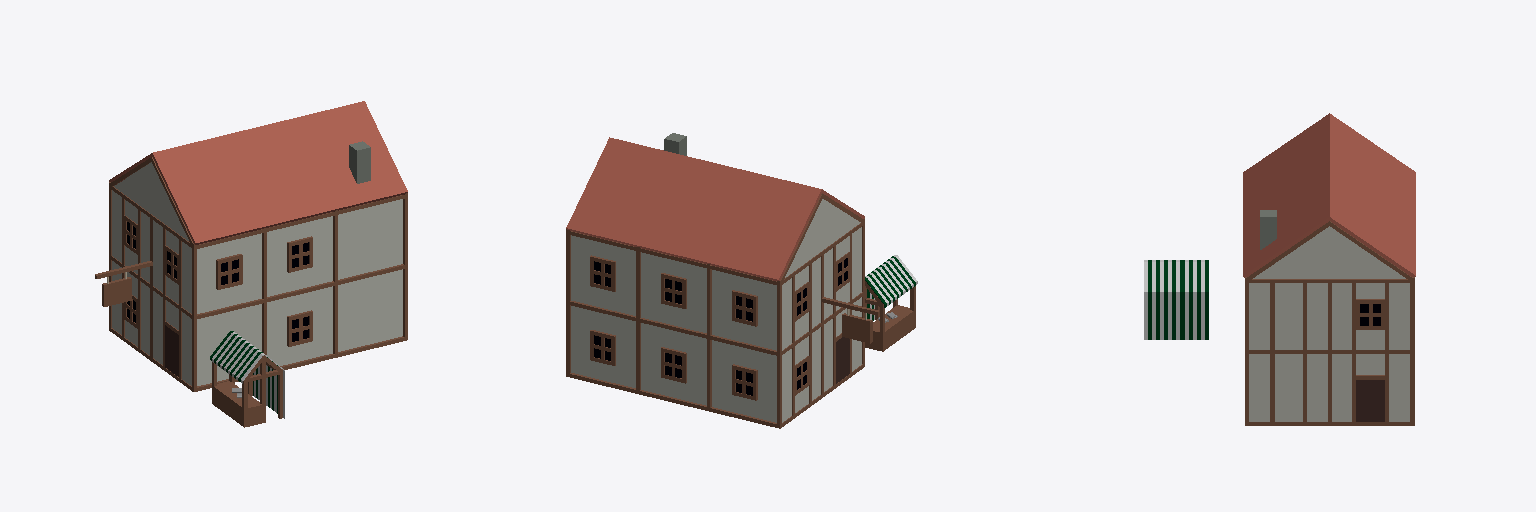
Rendered from timberframedclothier_green_white.obj.
The picture shows the model from 3 angles: view 1: azimuth 30°, elevation 25°; view 2: azimuth 150°, elevation 25°; view 3: azimuth 270°, elevation 25°; orthographic projection.
Parts seen in each view (by area): view 1: Cube.005, Cube.007_Cube.011, Cube.011_Cube.015, Cube.018_Cube.016, Cube.056_Cube.081, Cube.001_Cube.058, Cube.013_Cube.080, Cube.006_Cube.010, Cube.055_Cube.059, Cube.026_Cube.019, Cube.073_Cube.078, Cube.012_Cube.017 (+5 smaller); view 2: Cube.005, Cube.007_Cube.011, Cube.023_Cube.026, Cube.022_Cube.025, Cube.021_Cube.024, Cube.015_Cube.020, Cube.019_Cube.022, Cube.017_Cube.021, Cube.014_Cube.018, Cube.008, Cube.020_Cube.023, Cube.073_Cube.078 (+6 smaller); view 3: Cube.005, Cube.007_Cube.011, Cube.147_Cube.153, Cube.003, Cube.033, Cube.027, Cube.047_Cube.049, Cube.031, Cube.016_Cube.013, Cube.006_Cube.010, Cube.012_Cube.017, Cube.035 (+4 smaller).
Boxes of the visible parts, box(x1,y1,x2,y2) form: Cube.005: box(112, 162, 402, 385); Cube.007_Cube.011: box(109, 101, 407, 244); Cube.011_Cube.015: box(195, 264, 406, 319); Cube.018_Cube.016: box(195, 195, 406, 249); Cube.056_Cube.081: box(216, 254, 242, 289); Cube.001_Cube.058: box(287, 310, 312, 346); Cube.013_Cube.080: box(287, 236, 312, 272); Cube.006_Cube.010: box(349, 141, 370, 183); Cube.055_Cube.059: box(197, 336, 406, 391); Cube.026_Cube.019: box(192, 243, 196, 391); Cube.073_Cube.078: box(102, 277, 131, 306); Cube.012_Cube.017: box(403, 193, 407, 339); Cube.005: box(571, 199, 861, 422); Cube.007_Cube.011: box(566, 137, 864, 280); Cube.023_Cube.026: box(567, 373, 776, 427); Cube.022_Cube.025: box(567, 301, 776, 355); Cube.021_Cube.024: box(570, 231, 776, 284); Cube.015_Cube.020: box(732, 290, 757, 326); Cube.019_Cube.022: box(661, 347, 686, 383); Cube.017_Cube.021: box(590, 330, 615, 365); Cube.014_Cube.018: box(661, 273, 686, 308); Cube.008: box(590, 255, 615, 291); Cube.020_Cube.023: box(732, 364, 757, 400); Cube.073_Cube.078: box(842, 313, 872, 343); Cube.005: box(1249, 226, 1409, 421); Cube.007_Cube.011: box(1243, 113, 1415, 277); Cube.147_Cube.153: box(1144, 292, 1208, 339); Cube.003: box(1356, 380, 1384, 421); Cube.033: box(1356, 299, 1384, 329); Cube.027: box(1410, 277, 1414, 425); Cube.047_Cube.049: box(1270, 279, 1274, 423); Cube.031: box(1249, 422, 1410, 425); Cube.016_Cube.013: box(1248, 350, 1409, 353); Cube.006_Cube.010: box(1260, 210, 1276, 249); Cube.012_Cube.017: box(1245, 277, 1248, 425); Cube.035: box(1352, 279, 1355, 423).
Bounding box in the file's own units: 15.3 × 11.25 × 13.34.